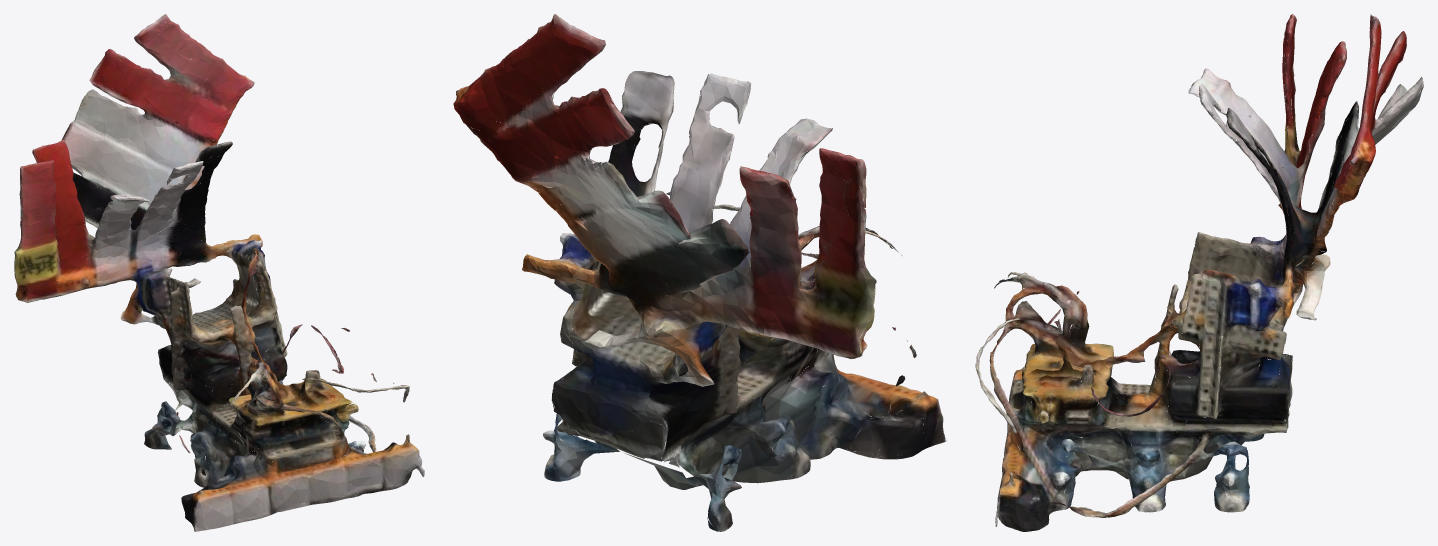
The model's file is kanirobo5.glb.
3 views of the same model, side by side, from view 1: azimuth 30°, elevation 25°; view 2: azimuth 150°, elevation 25°; view 3: azimuth 270°, elevation 25° (orthographic). The views are drawn at different scales.
Parts seen in each view (by area): view 1: mesh; view 2: mesh; view 3: mesh.
Boxes of the visible parts, box(x1,y1,x2,y2) form: mesh: box(14, 14, 424, 531); mesh: box(453, 14, 946, 531); mesh: box(975, 14, 1423, 531).
Size of the model in its own units: 0.2334 by 0.2923 by 0.2606.
1 material, 1 textured.
